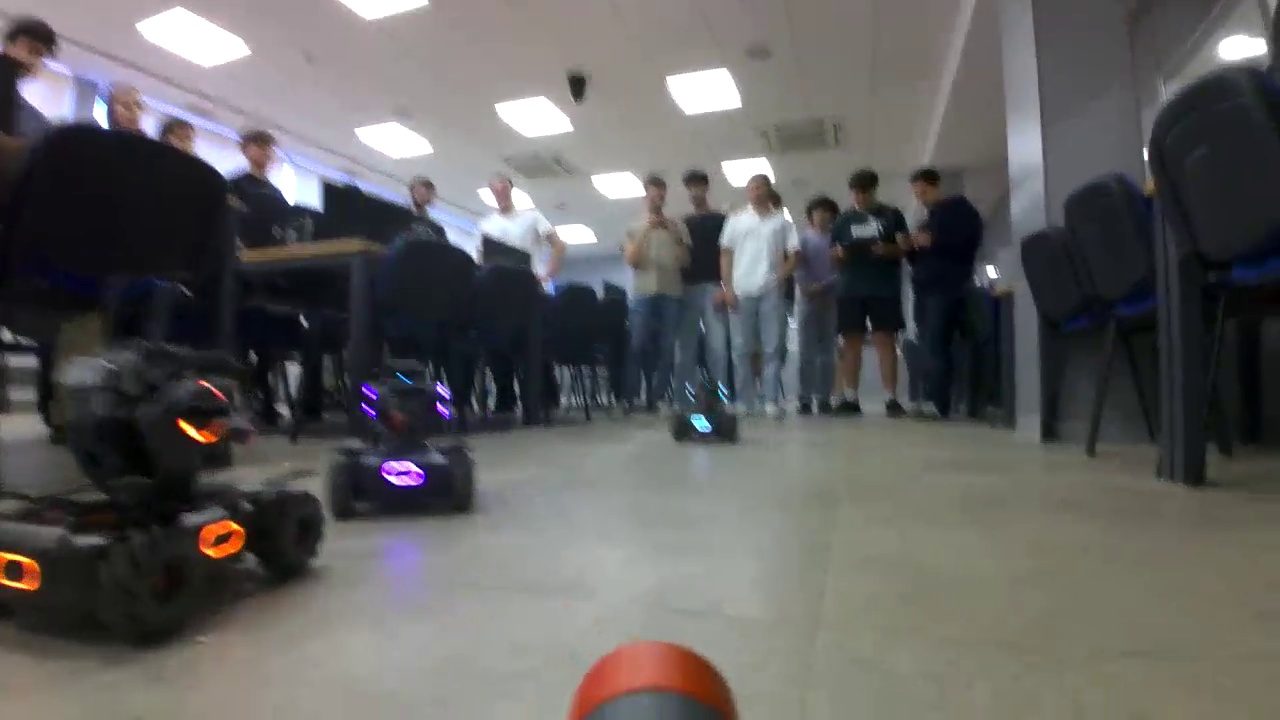robot: (1, 335, 328, 652), (325, 354, 474, 520), (672, 374, 737, 440)
